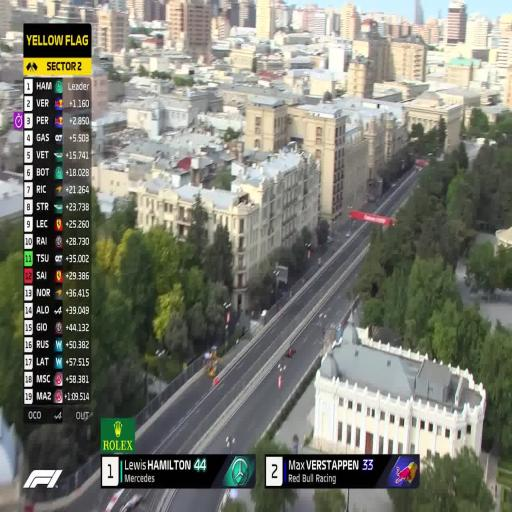f1_car: (285, 342, 298, 364)
